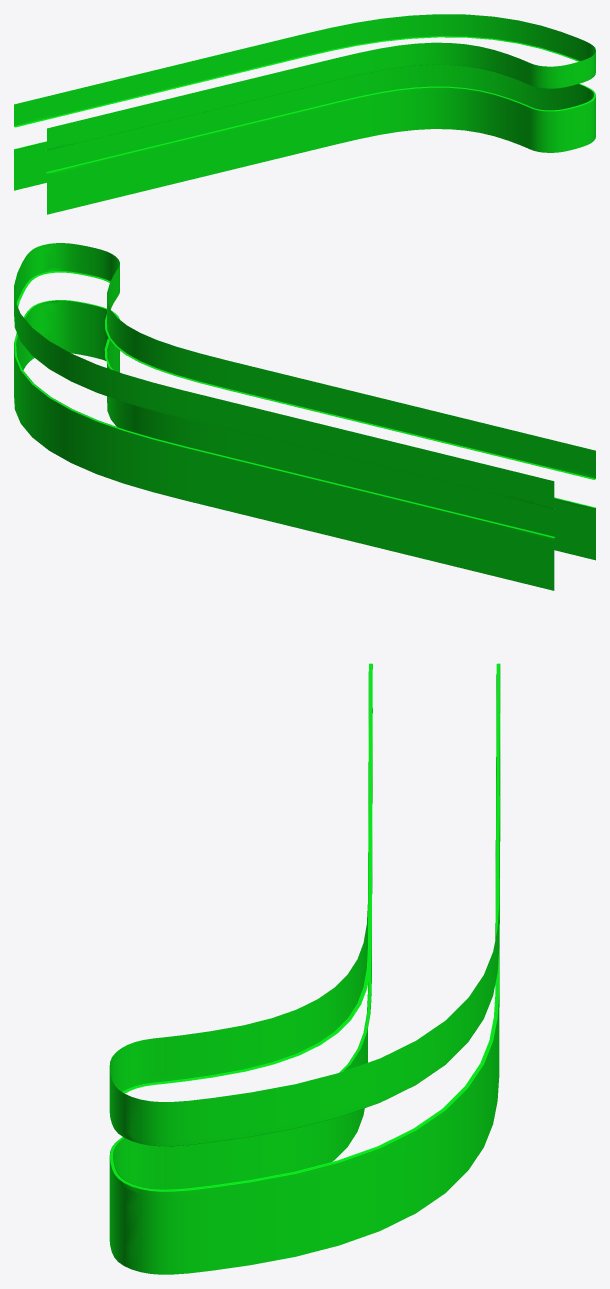
File: bartest_base1.gltf
3 renders of one model, top to bottom at view 1: azimuth 30°, elevation 25°; view 2: azimuth 150°, elevation 25°; view 3: azimuth 270°, elevation 25°, orthographic. The views are drawn at different scales.
Visible parts, largest first — view 1: polySurface168_Sand_0; view 2: polySurface168_Sand_0; view 3: polySurface168_Sand_0.
Part boxes in pixels (box(x1,y1,x2,y2)): polySurface168_Sand_0: box(14, 14, 595, 214); polySurface168_Sand_0: box(14, 243, 595, 590); polySurface168_Sand_0: box(109, 663, 500, 1274).
Bounding box in the file's own units: 0.2986 × 0.0498 × 0.1021.
Materials: 1 (1 with a texture image).
